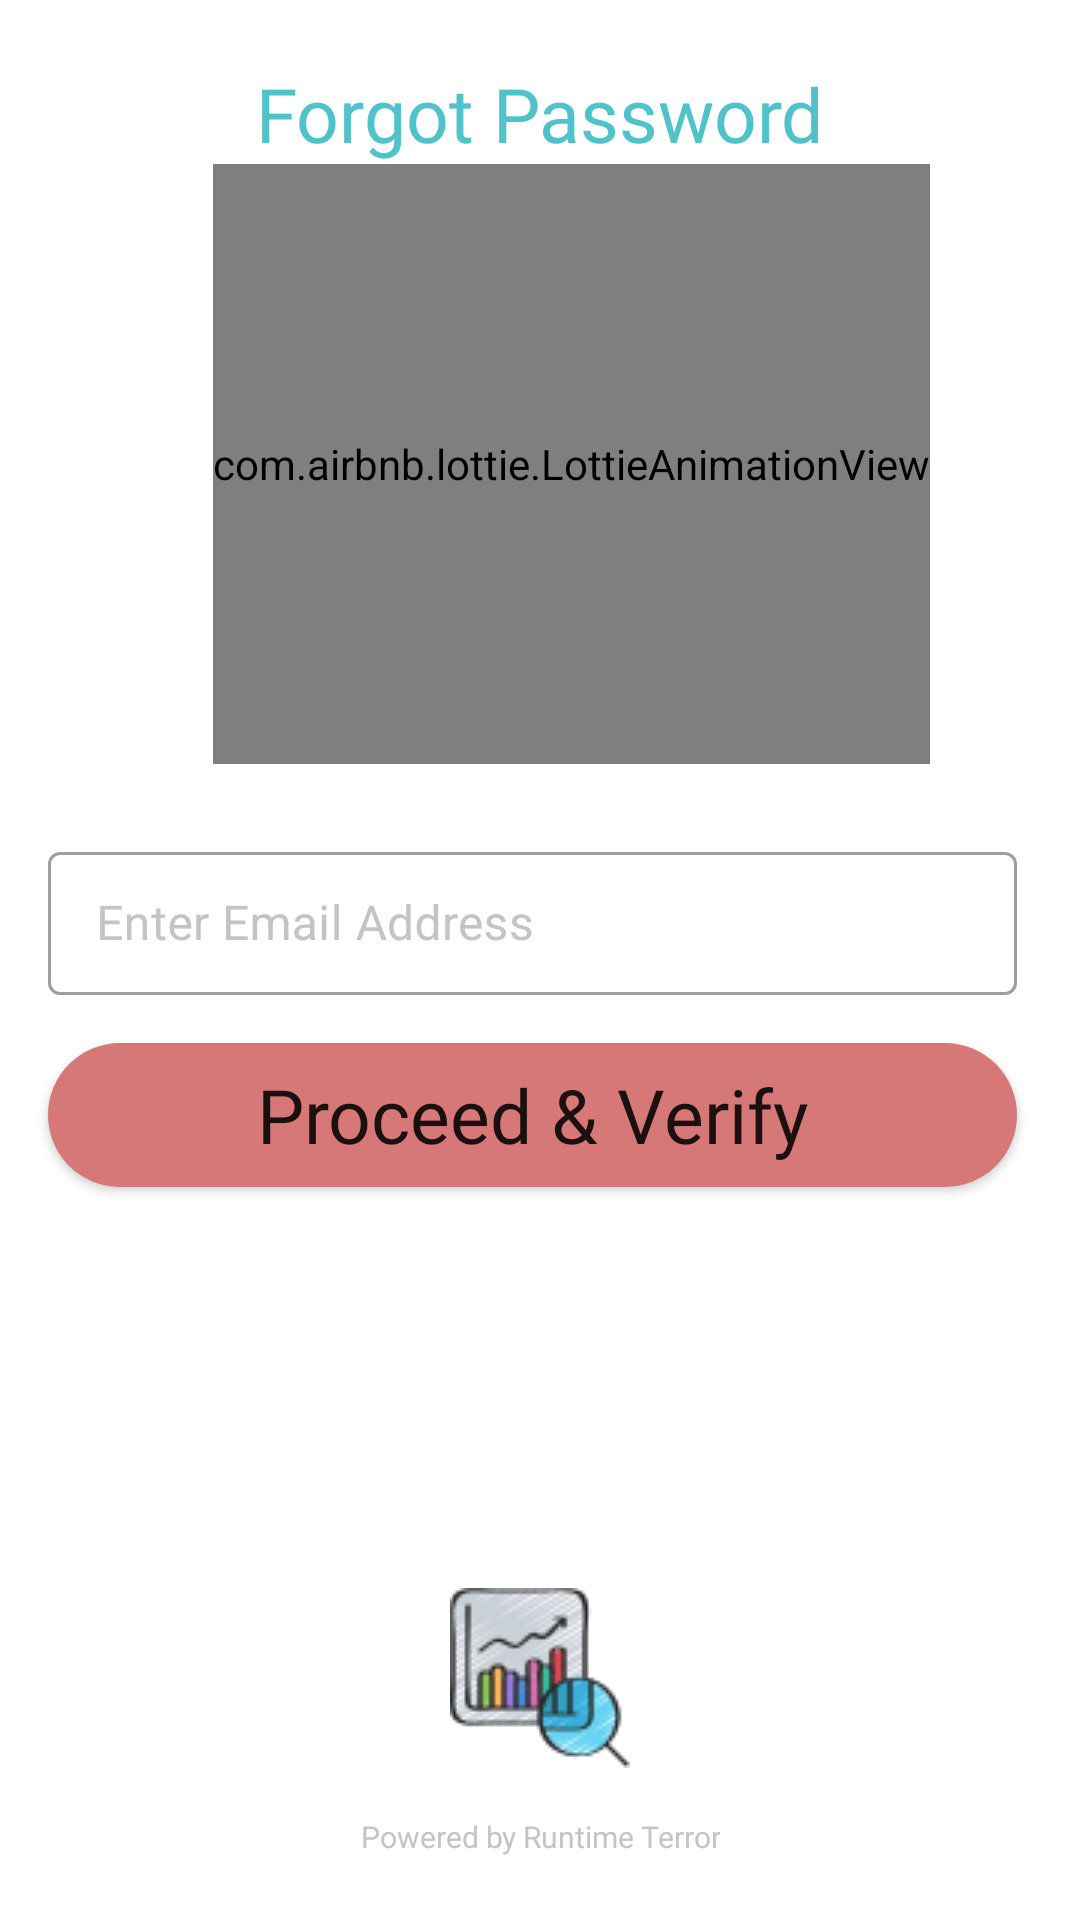

Icon click points for this 1080 x 1920 phone screenshot, format (x=x, y=y):
stock: (x=540, y=1678)
